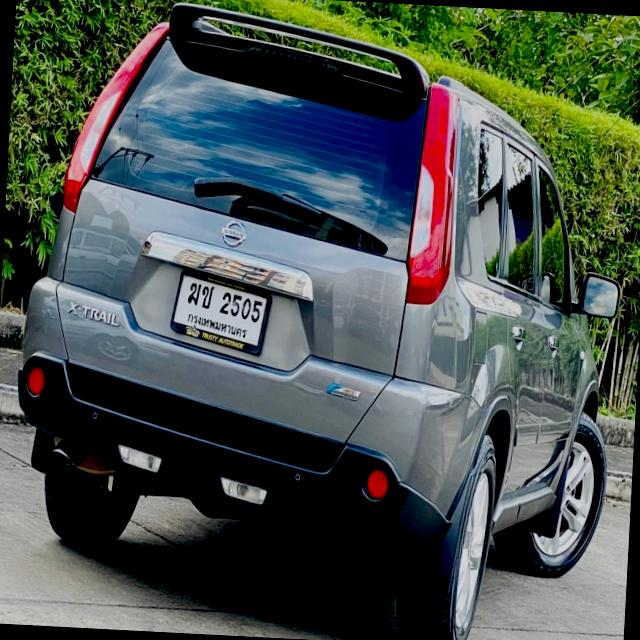license_plate: (168, 266, 274, 360)
